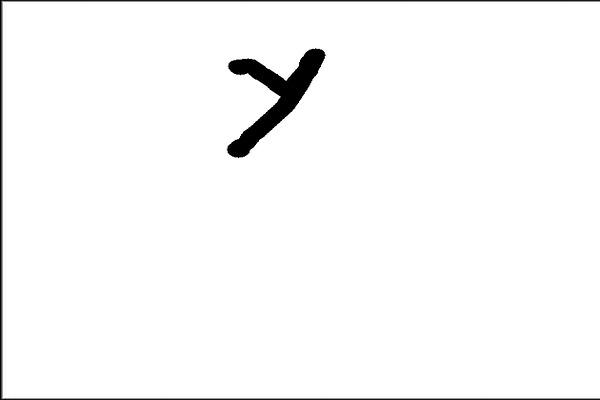Y: (208, 35, 334, 163)
